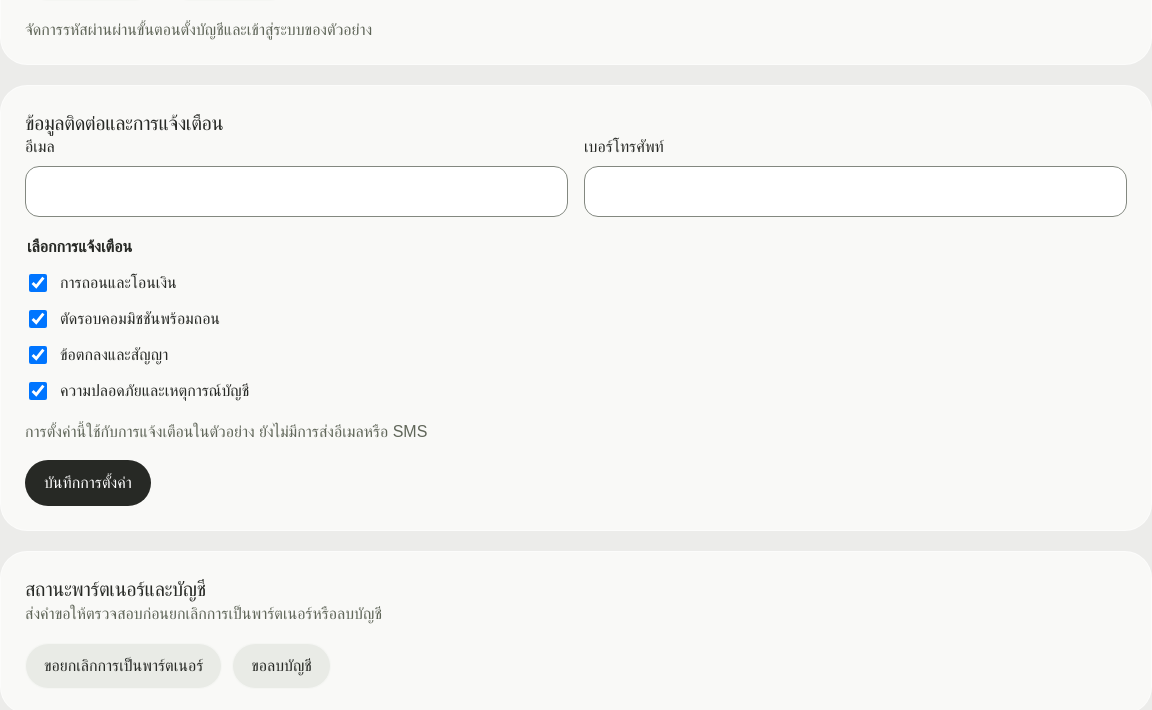
Test case: AccountSettings presentation › records deletion only after confirmation and shows a pending request without deleting identity
(page scrolled)
Click the button "ขอลบบัญชี".
click(282, 666)  # box [232, 643, 331, 689]
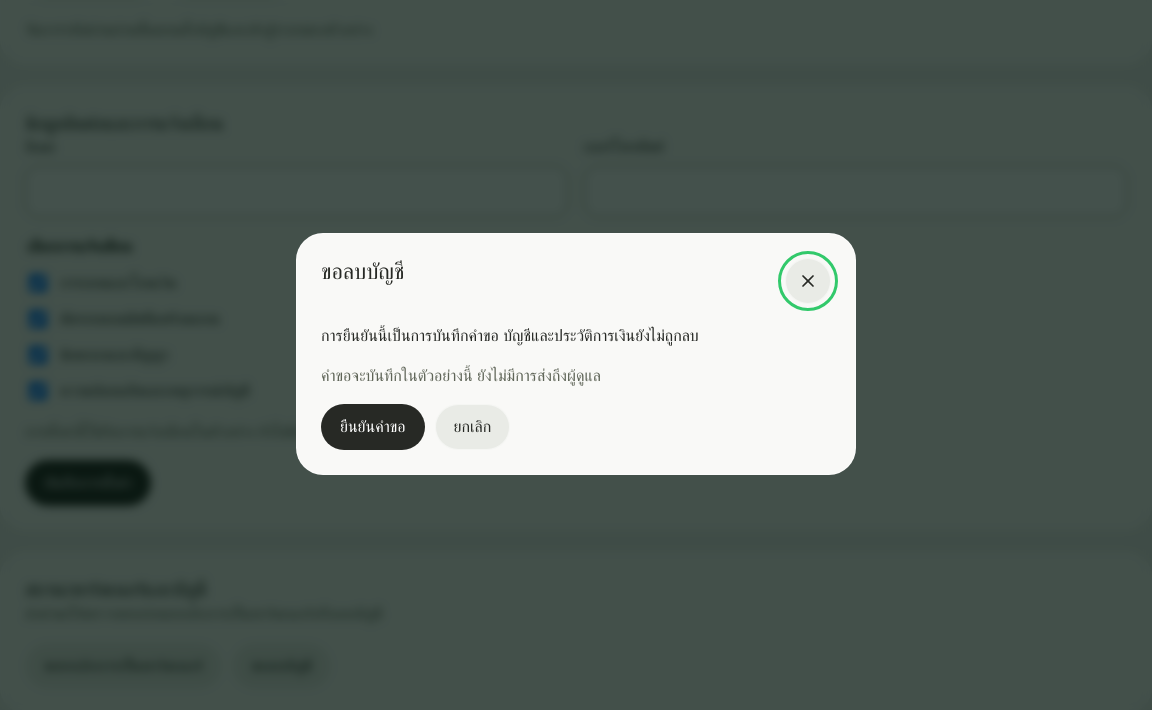
Check: the text "บัญชีและประวัติการเงินยังไม่ถูกลบ" is shown, box [321, 327, 699, 344]
Click the button "ยกเลิก".
click(472, 427)  # box [434, 404, 510, 450]
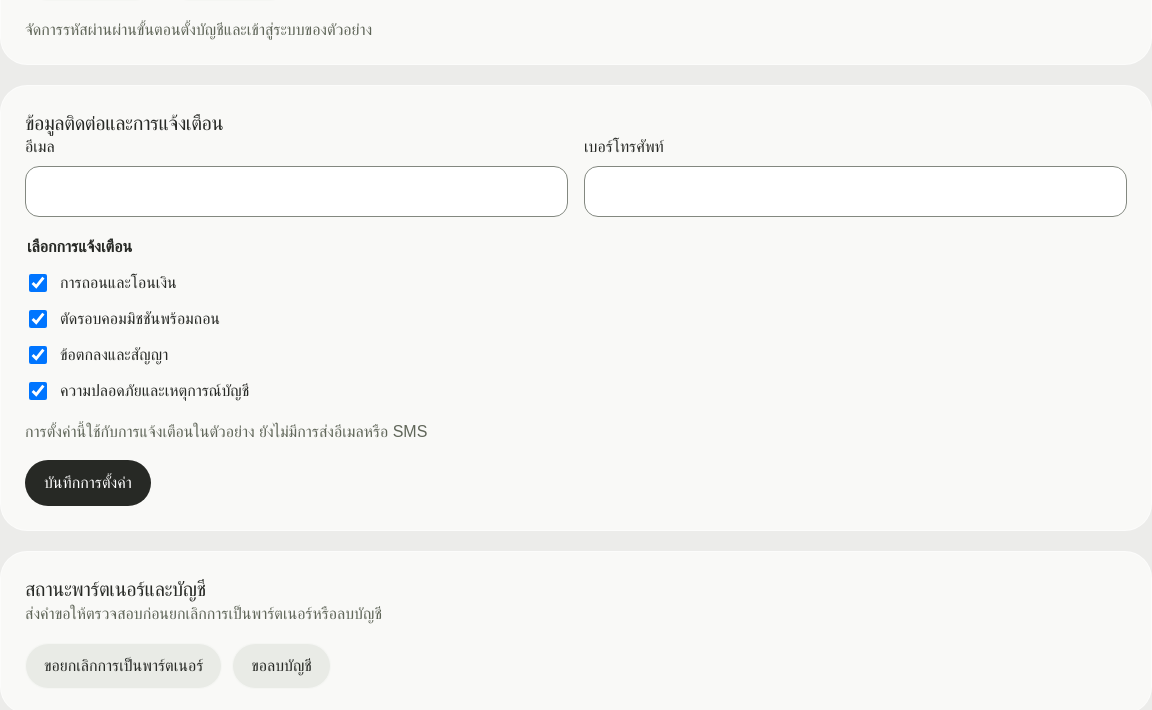
Click the button "ขอลบบัญชี".
click(282, 666)  # box [232, 643, 331, 689]
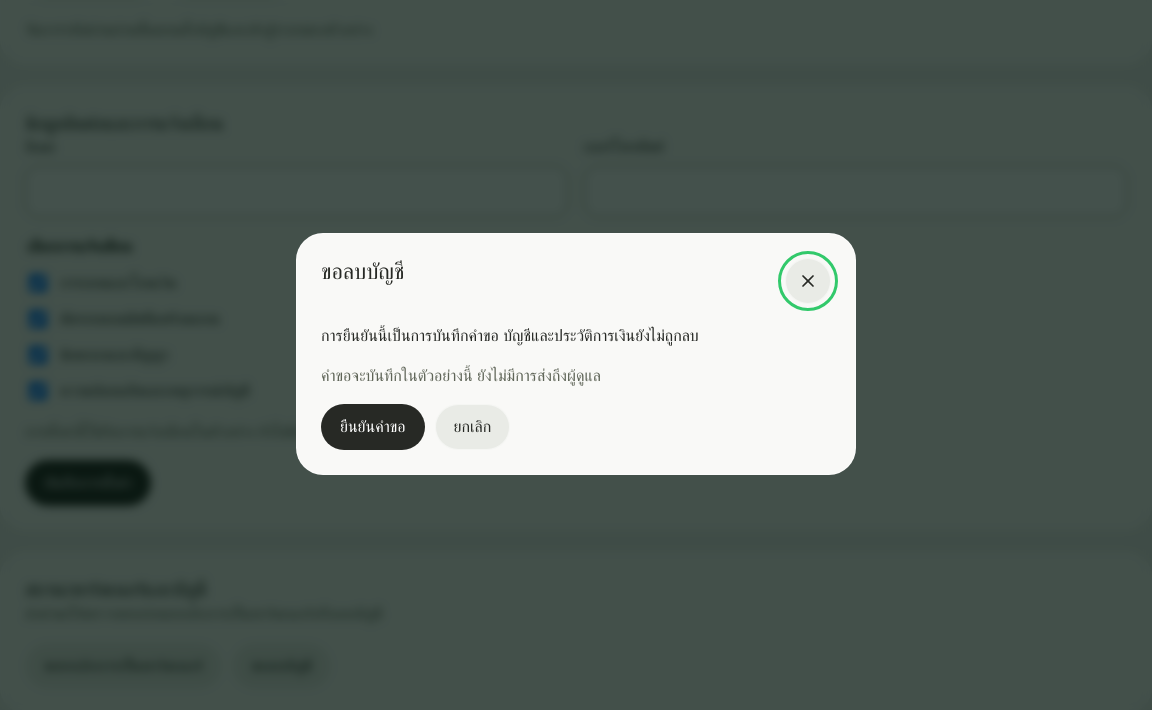
Click the button "ยืนยันคำขอ".
click(373, 427)  # box [321, 404, 424, 450]
(page scrolled)
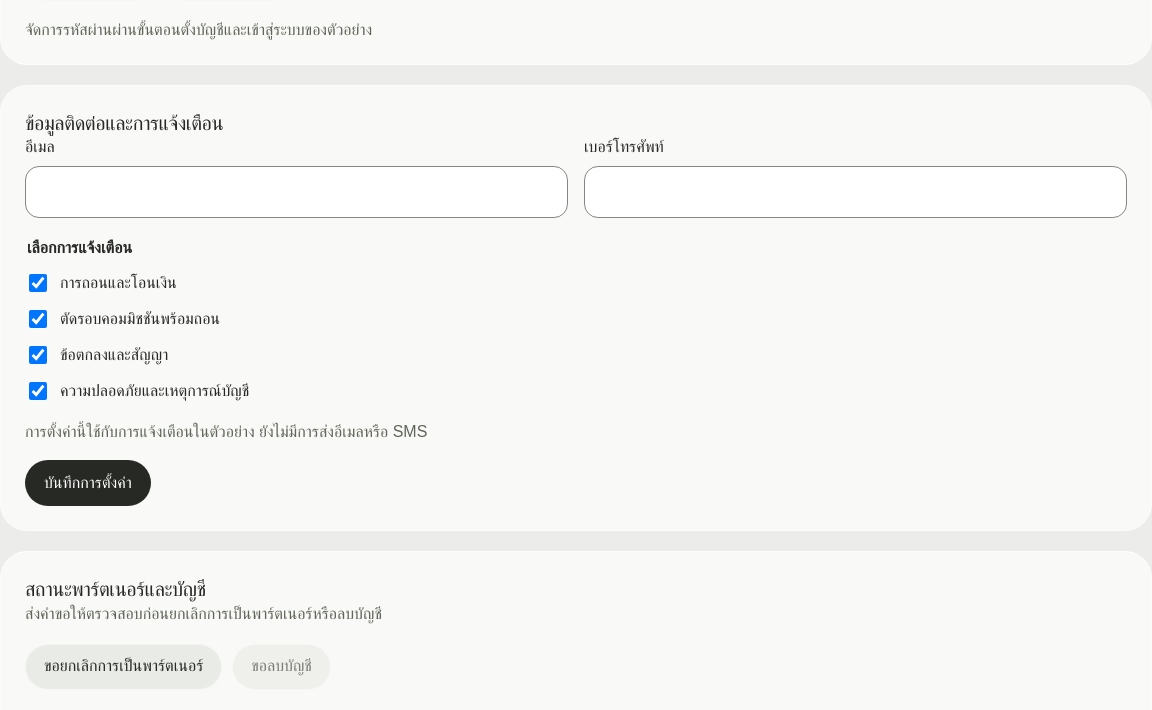
Check: the button "ขอลบบัญชี" is disabled, box [232, 644, 331, 690]
